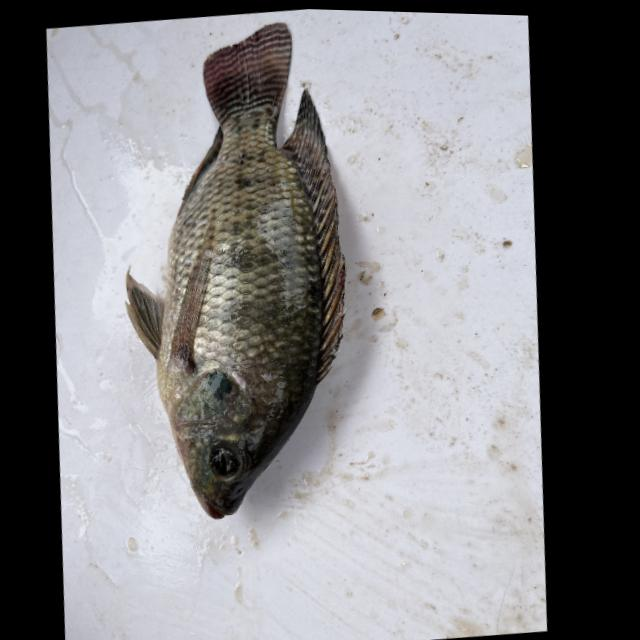Tilapia: (81, 10, 389, 532)
